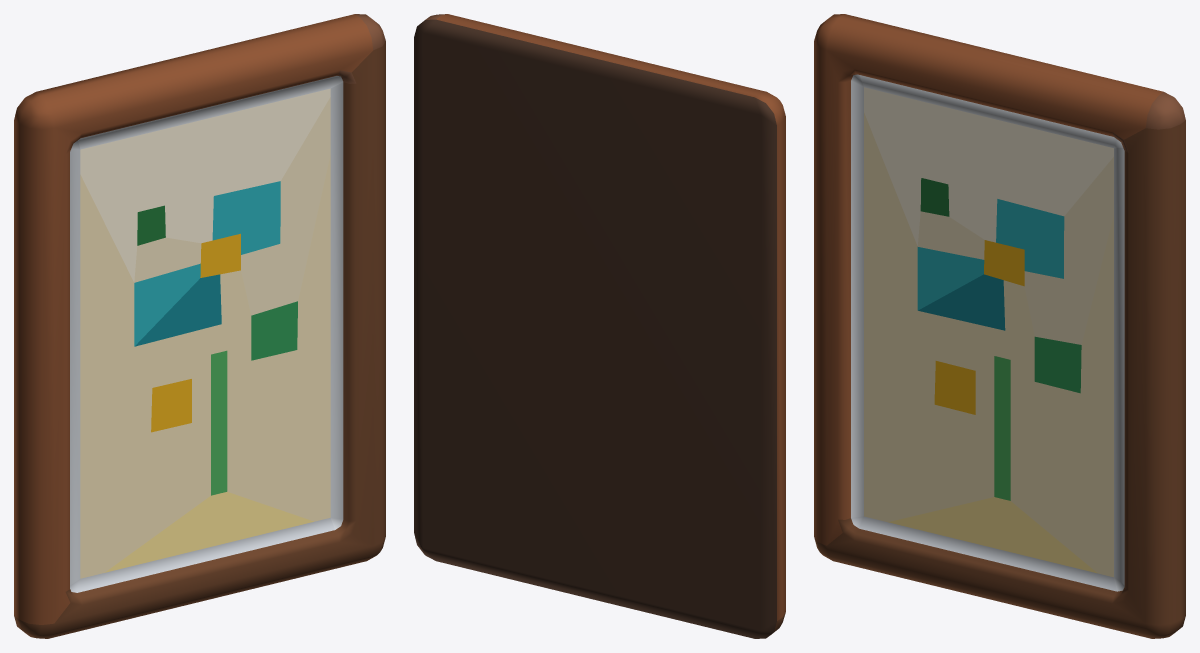
Rendered from quadro_flores_abstratas_pacote.glb.
3 views of the same model, side by side, from view 1: azimuth 30°, elevation 25°; view 2: azimuth 150°, elevation 25°; view 3: azimuth 330°, elevation 25° (orthographic).
Visible parts, largest first — view 1: quadro_flores_abstratas_pacote; view 2: quadro_flores_abstratas_pacote; view 3: quadro_flores_abstratas_pacote.
Boxes of the visible parts, x1,y1,x2,y2 form: quadro_flores_abstratas_pacote: (14,14,385,638); quadro_flores_abstratas_pacote: (414,14,785,638); quadro_flores_abstratas_pacote: (814,14,1185,638).
Bounding box in the file's own units: 0.3971 × 0.5661 × 0.041.
Materials: 1 (1 with a texture image).
